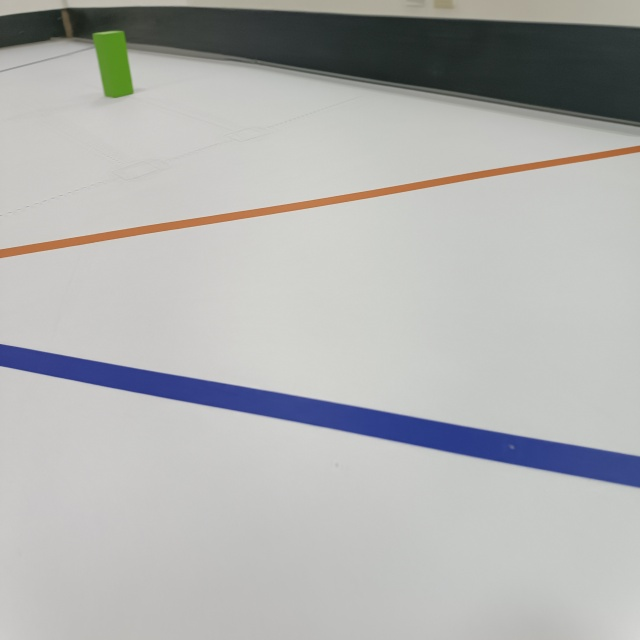blue line: (0, 340, 640, 490)
green rectangular prism: (91, 31, 138, 103)
orange line: (0, 145, 637, 259)
